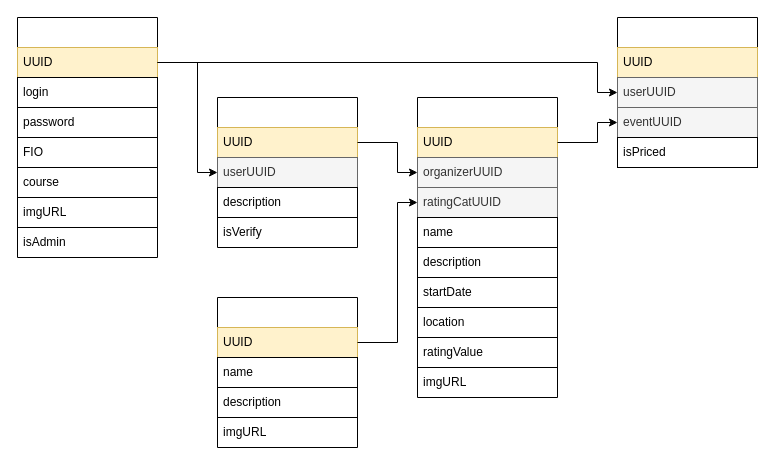
This 775x465 diagram has some shape labels left out. The box of each missing label's shape, as (x1, y1, x2, y2) in pixels:
Events: (416, 96, 558, 398)
Organizers: (216, 96, 358, 248)
Ratings: (216, 296, 358, 448)
Users: (16, 16, 158, 258)
UsersEvents: (616, 16, 758, 168)
